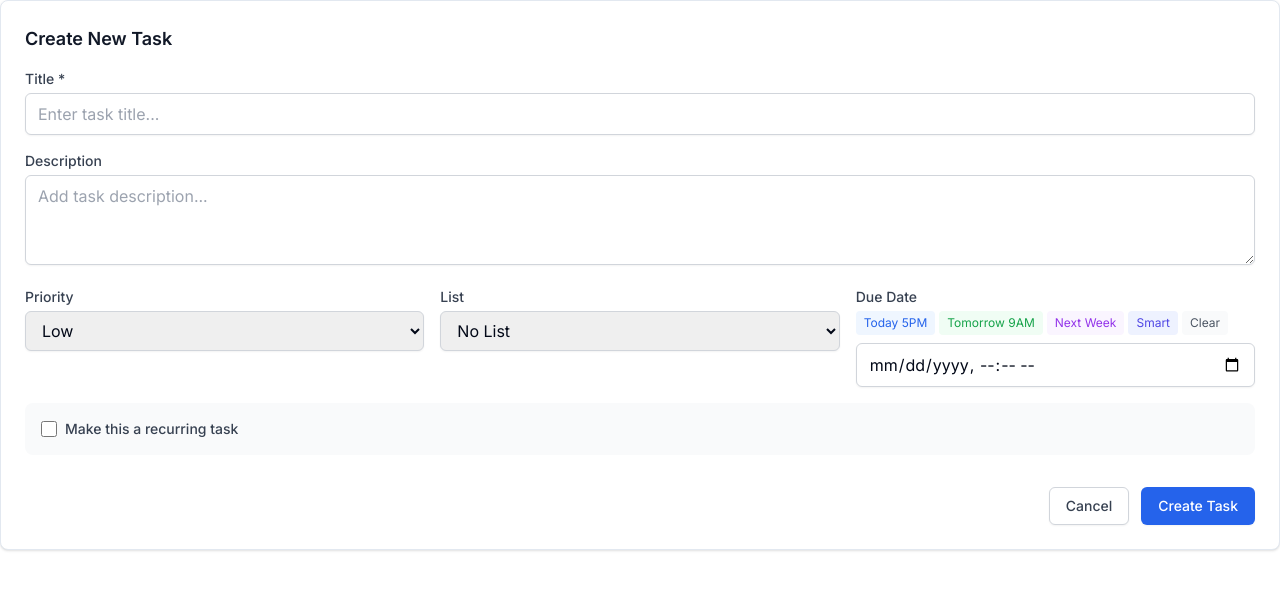
Test: TaskForm Component › should validate required title field
Click the button "Create Task".
click(1198, 506)  # box [1141,487,1255,525]
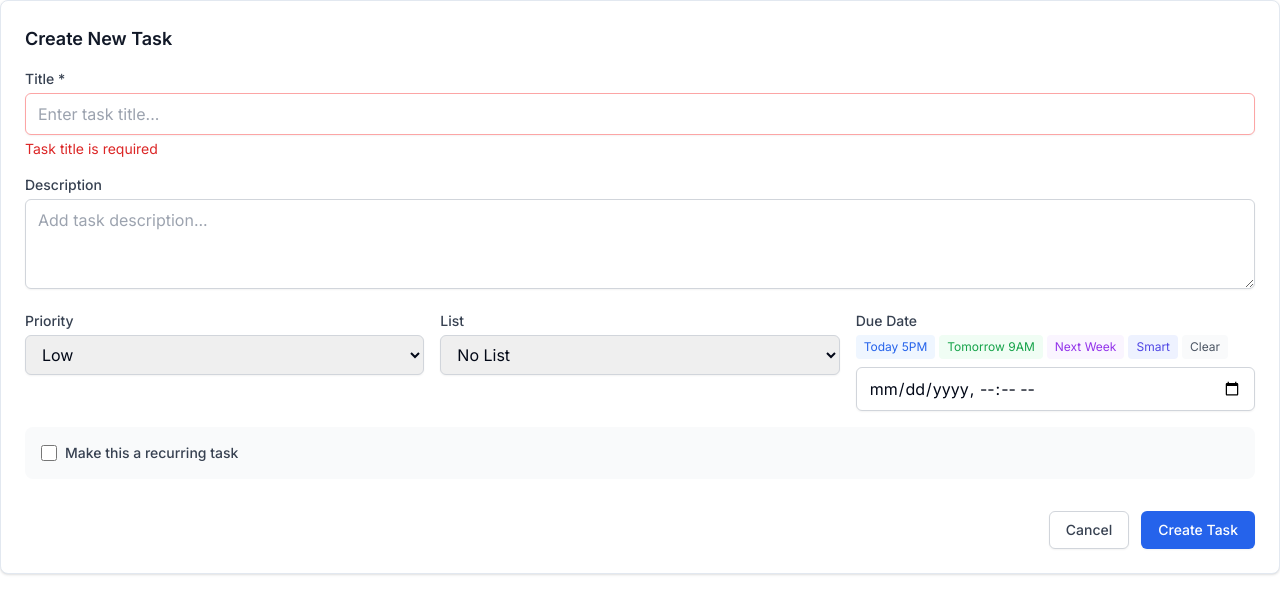
Expected: the text "Task title is required" is shown, [25,140,158,157]
